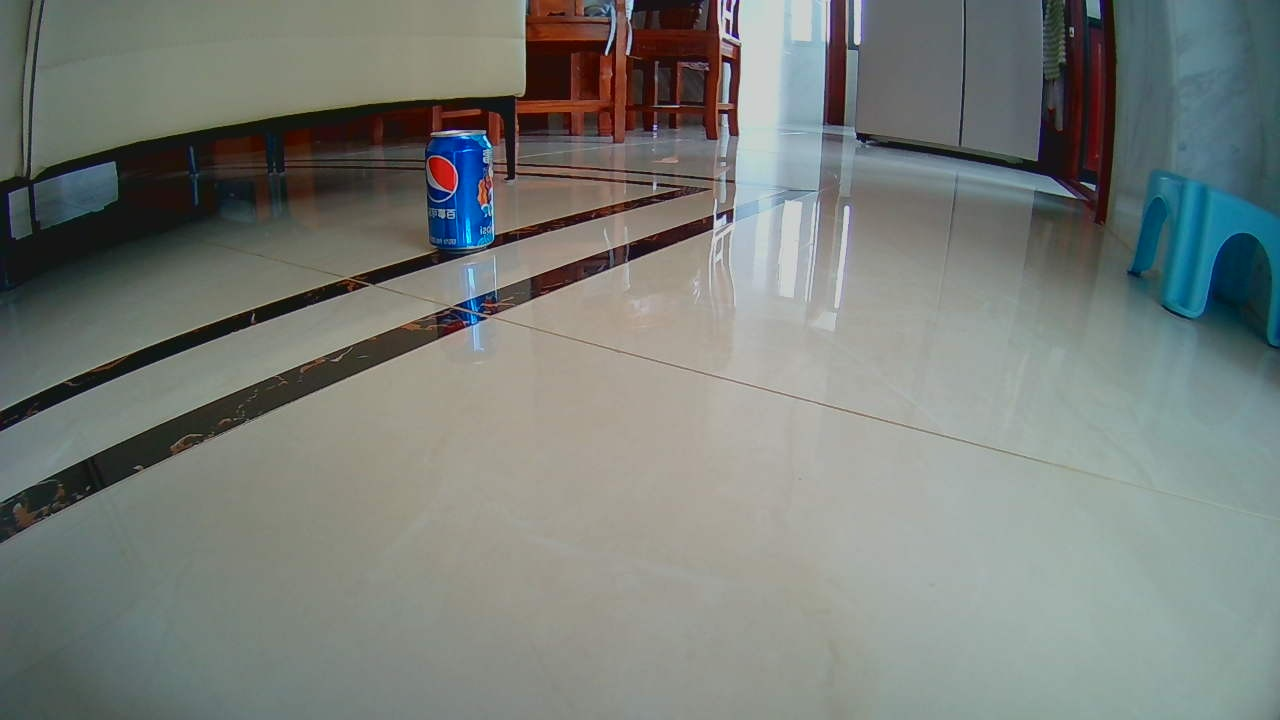pessi: (427, 128, 496, 253)
